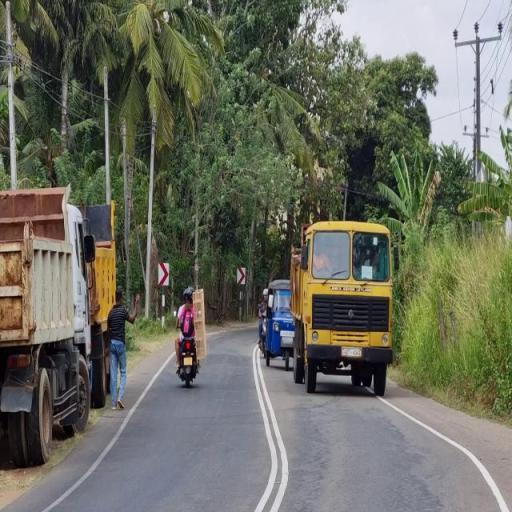double_white_line: (250, 342, 292, 511)
